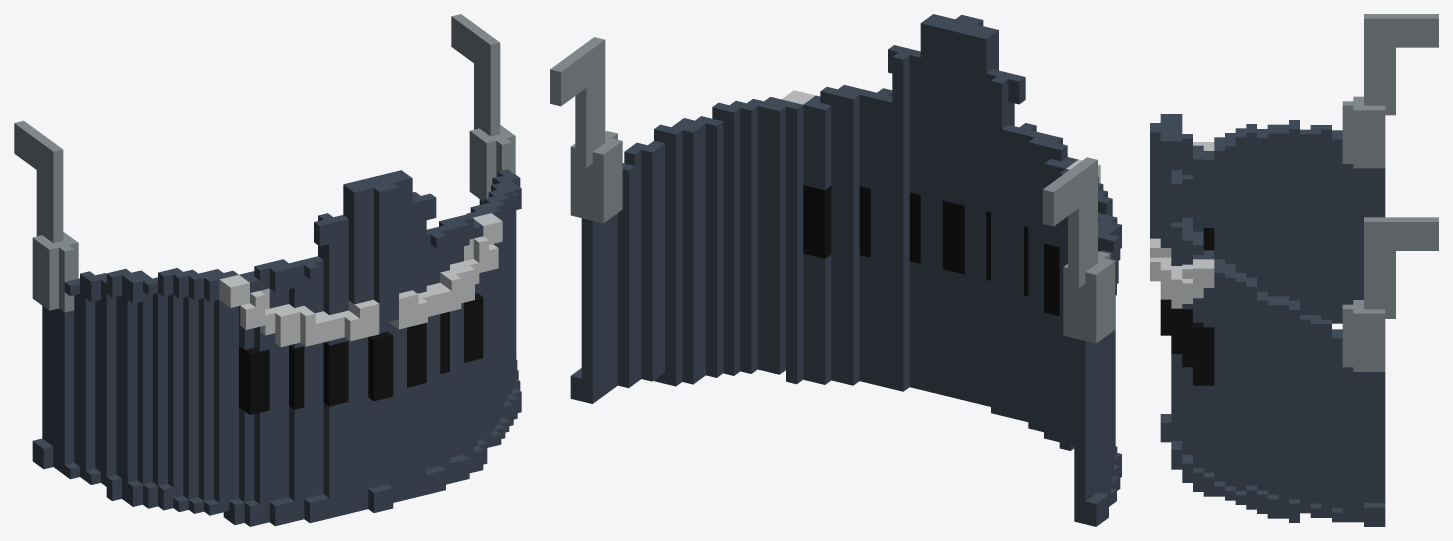
The model's file is hc_steel_facemask.glb.
3 views of the same model, side by side, from view 1: azimuth 30°, elevation 25°; view 2: azimuth 150°, elevation 25°; view 3: azimuth 270°, elevation 25° (orthographic). The views are drawn at different scales.
Parts seen in each view (by area): view 1: hc_steel_facemask:compound; view 2: hc_steel_facemask:compound; view 3: hc_steel_facemask:compound.
Boxes of the visible parts, x1=… form: hc_steel_facemask:compound: x1=14, y1=14, x2=521, y2=526; hc_steel_facemask:compound: x1=550, y1=14, x2=1121, y2=526; hc_steel_facemask:compound: x1=1150, y1=14, x2=1438, y2=526.
Size of the model in its own units: 0.192 by 0.132 by 0.108.
